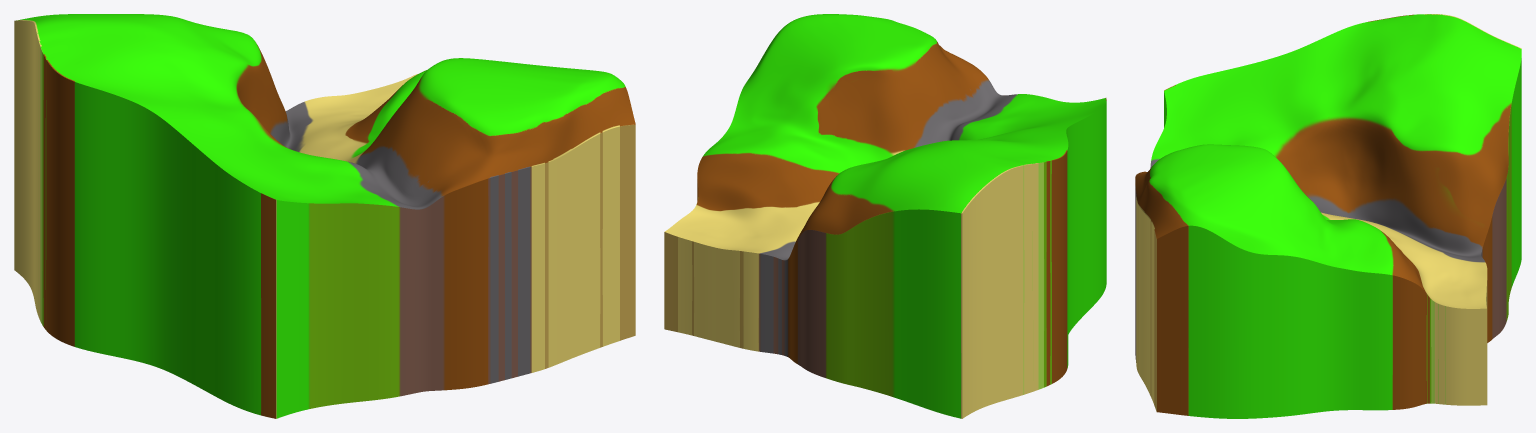
3 views of the same model, side by side, from view 1: azimuth 30°, elevation 25°; view 2: azimuth 150°, elevation 25°; view 3: azimuth 270°, elevation 25° (orthographic). The views are drawn at different scales.
Parts seen in each view (by area): view 1: Plane; view 2: Plane; view 3: Plane.
Boxes of the visible parts, <box> form: Plane: <box>14,14,635,418</box>; Plane: <box>664,14,1106,418</box>; Plane: <box>1135,14,1521,418</box>.
Bounding box in the file's own units: 269 × 157 × 241.
1 material, 1 textured.
